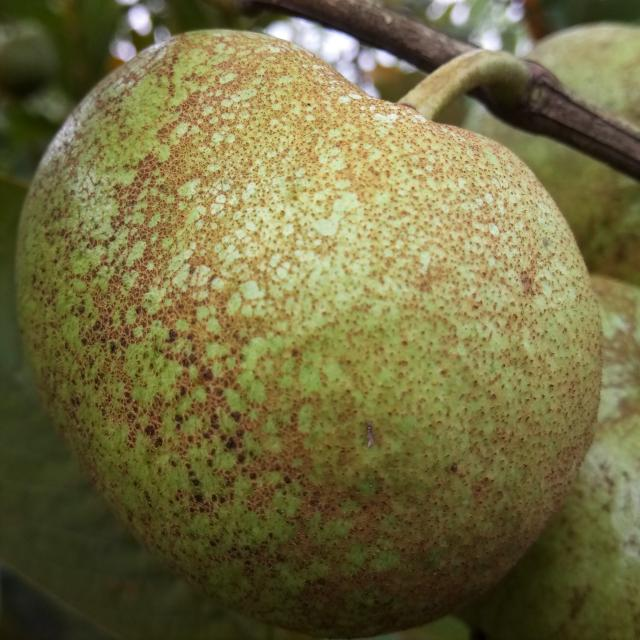Scab: (18, 31, 601, 636)
